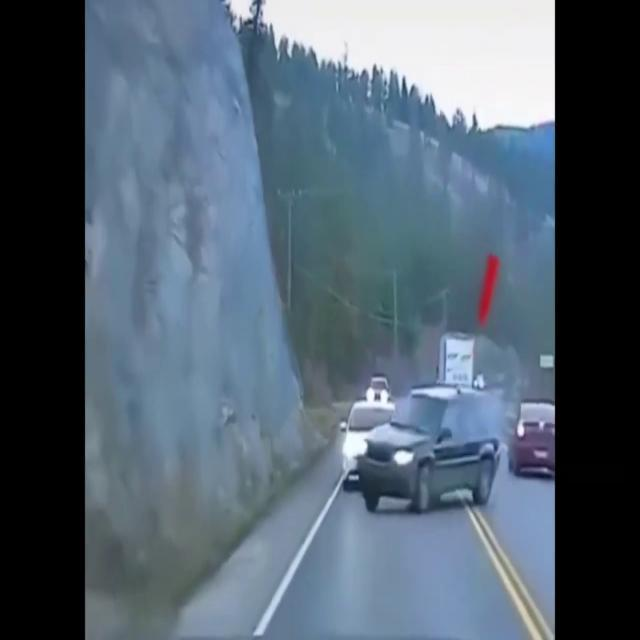single accident: (292, 288, 560, 547)
